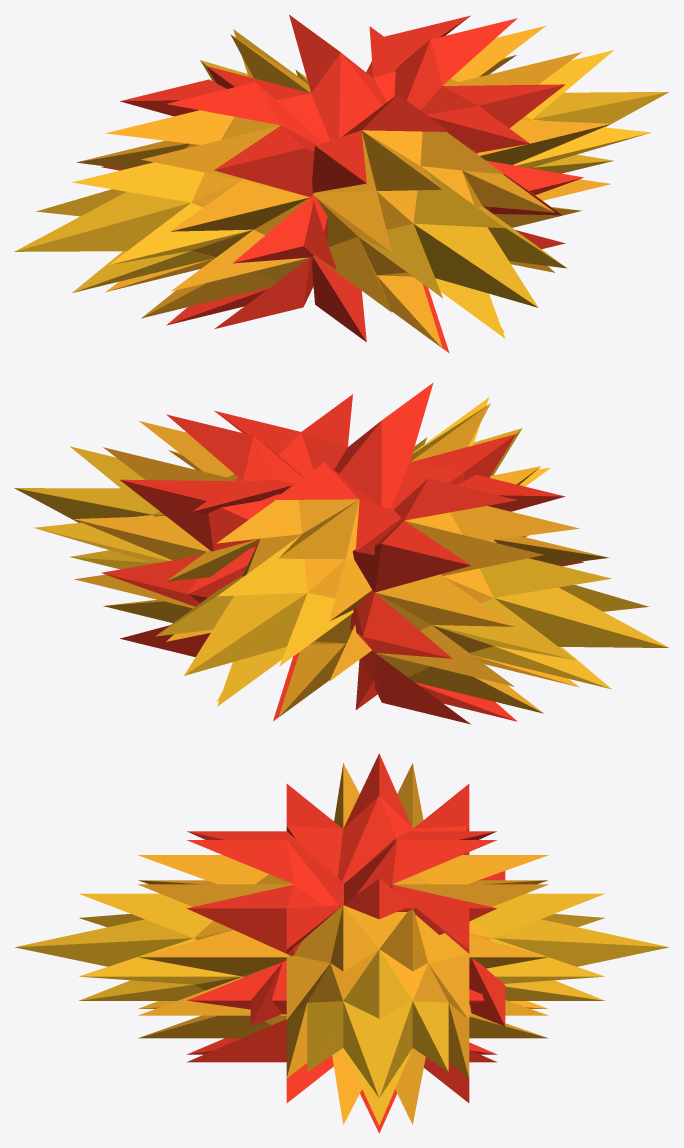
3 renders of one model, top to bottom at view 1: azimuth 30°, elevation 25°; view 2: azimuth 150°, elevation 25°; view 3: azimuth 270°, elevation 25°, orthographic. The views are drawn at different scales.
Size of the model in its own units: 285 by 92 by 255.
1 material, 1 textured.
